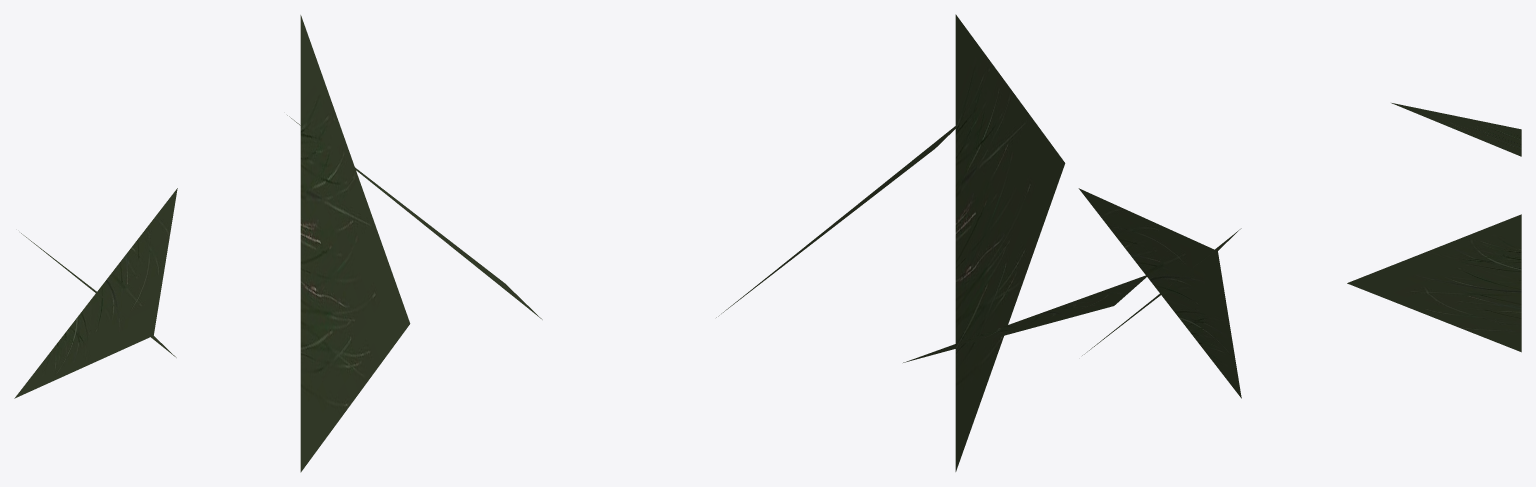
Rendered from brush_shortnewgrass_triangularclumpshort.glb.
3 renders of one model, left to right at view 1: azimuth 30°, elevation 25°; view 2: azimuth 150°, elevation 25°; view 3: azimuth 270°, elevation 25°, orthographic. The views are drawn at different scales.
Bounding box in the file's own units: 50.52 × 36.95 × 19.36.
Materials: 1 (1 with a texture image).
